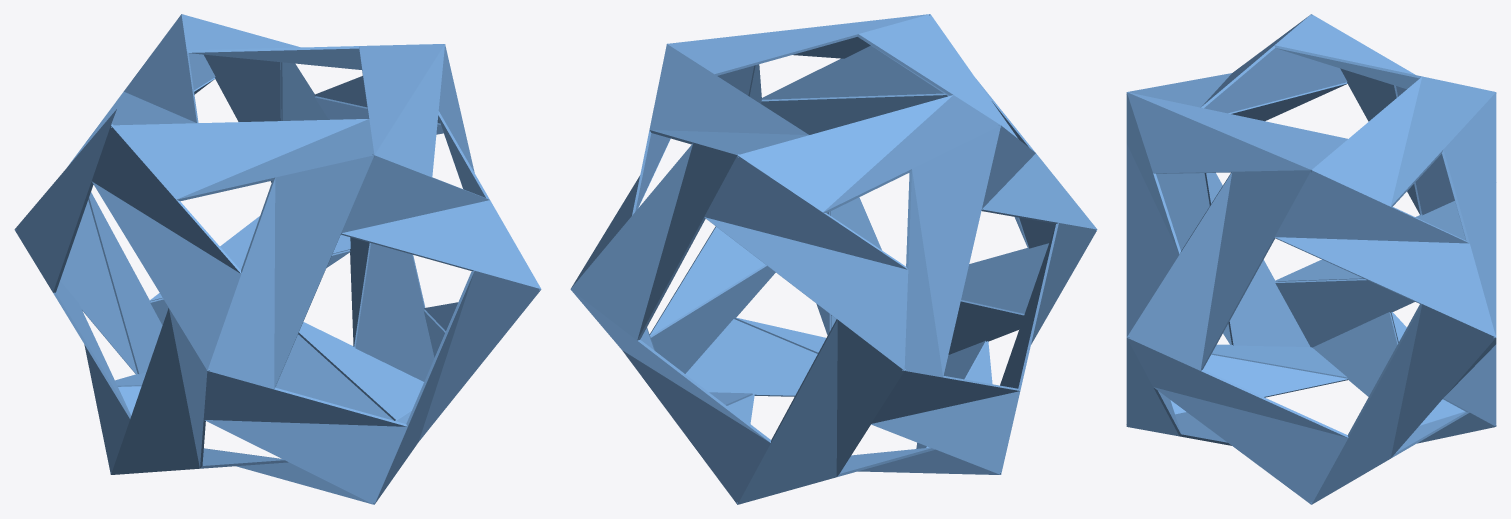
File: Cuboctahedron.glb
3 renders of one model, left to right at view 1: azimuth 30°, elevation 25°; view 2: azimuth 150°, elevation 25°; view 3: azimuth 270°, elevation 25°, orthographic. The views are drawn at different scales.
Parts seen in each view (by area): view 1: root; view 2: root; view 3: root.
Boxes of the visible parts, left/top/right/bottom form: root: left=14, top=14, right=541, bottom=504; root: left=570, top=14, right=1097, bottom=504; root: left=1126, top=14, right=1496, bottom=504.
Bounding box in the file's own units: 7.22 × 7.22 × 7.22.
